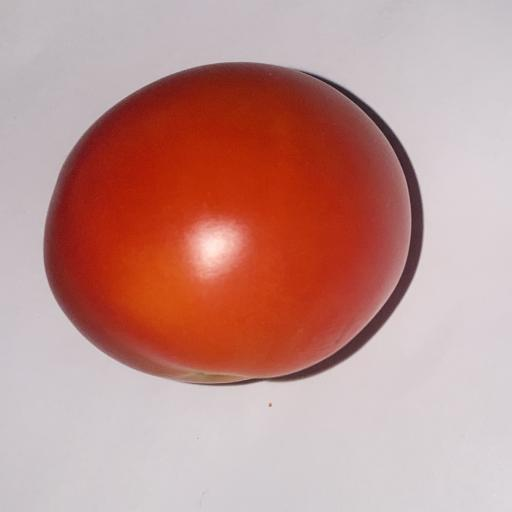ripe: (45, 63, 411, 382)
